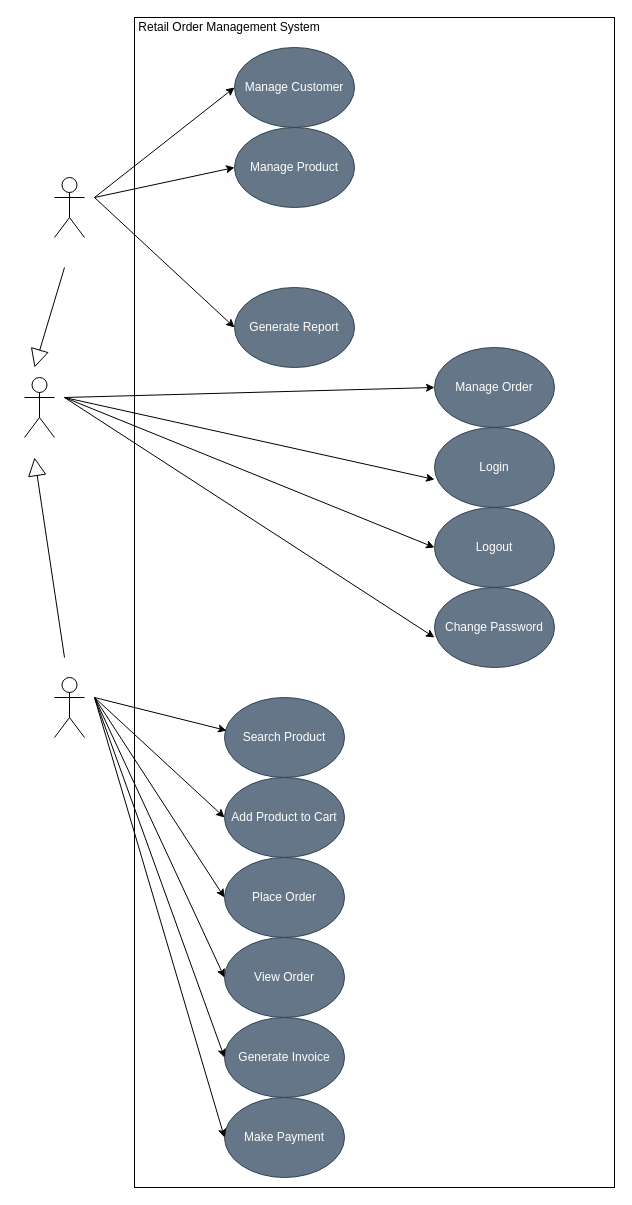
This 632x1205 diagram has some shape labels left out. Here are the shapes that lost their labels. From the top down, the centre of each, then its label:
At [69,207]: "Admin".
At [39,407]: "User".
At [69,707]: "Customer".
